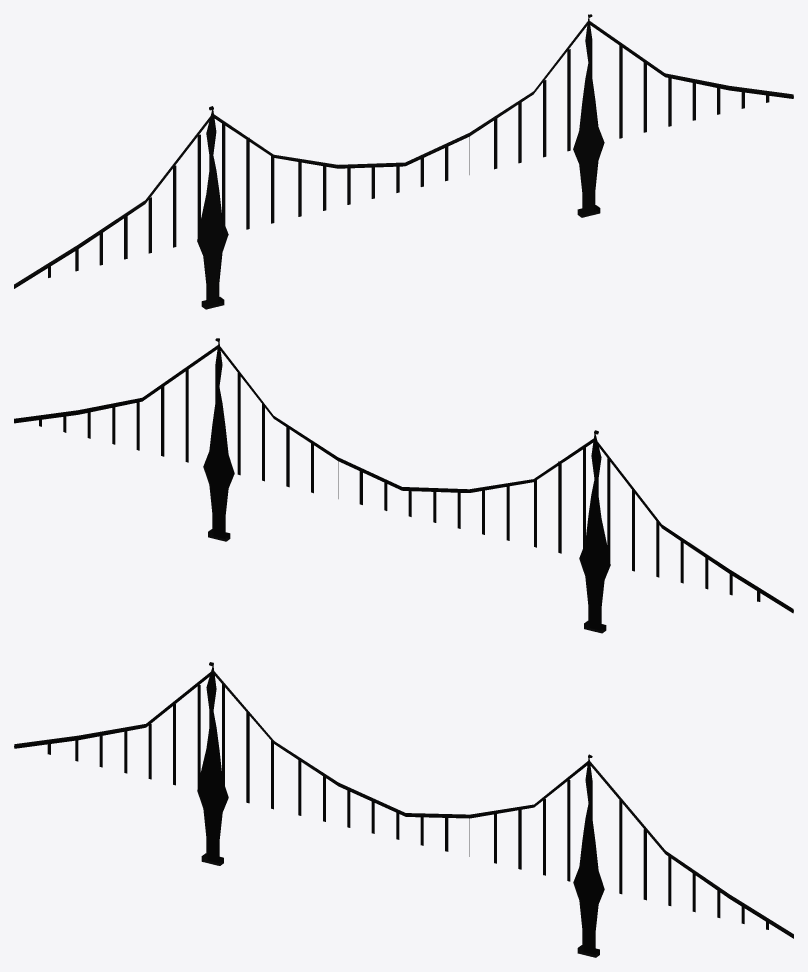
The model's file is Bridge3.glb.
3 views of the same model, one above another, from view 1: azimuth 30°, elevation 25°; view 2: azimuth 150°, elevation 25°; view 3: azimuth 330°, elevation 25° (orthographic).
Visible parts, largest first — view 1: Bridge3; view 2: Bridge3; view 3: Bridge3.
Part boxes in pixels (x1,y1,x2,y2): Bridge3: (14, 14, 793, 309); Bridge3: (14, 338, 793, 633); Bridge3: (14, 662, 793, 957).
Size of the model in its own units: 5078 by 1241 by 46.1.
Materials: 1 (1 with a texture image).
